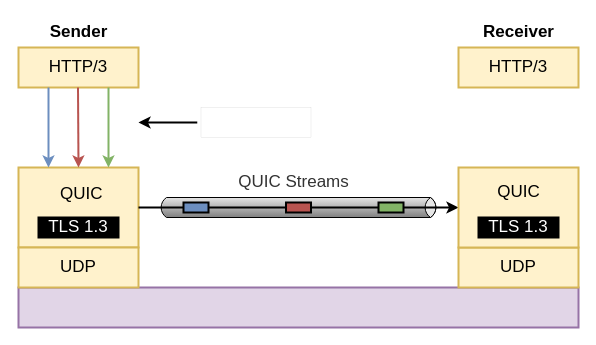
The diagram is 596 pixels wide and 345 high, and some of its shapes have lost their labels. Here are the shapes that lost their labels. From the top down, the centre of each, then its label:
(x=255, y=122): HTTP Streams
(x=298, y=307): IP
